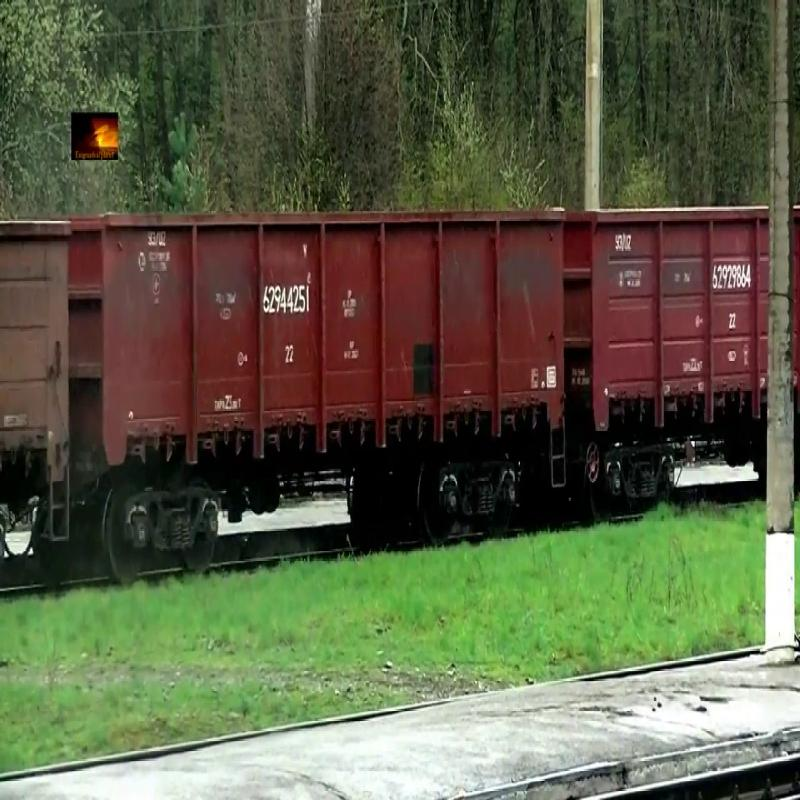train: (76, 207, 568, 468), (567, 207, 772, 431), (1, 221, 75, 497)
